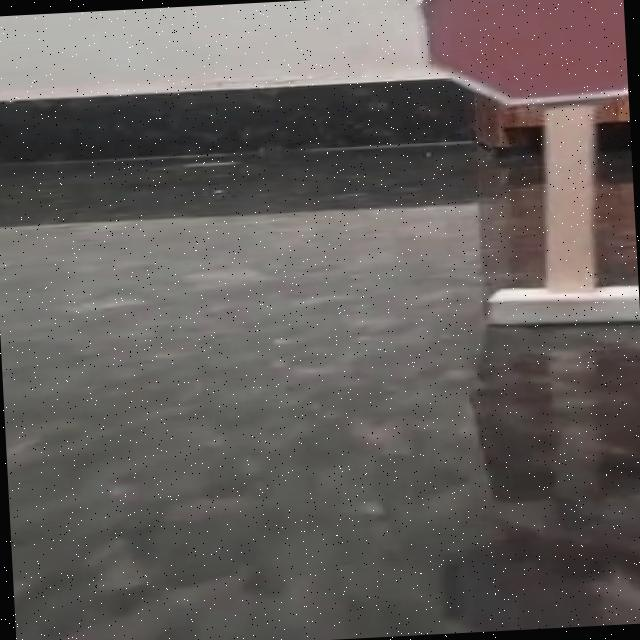Stop: (383, 0, 630, 129)
